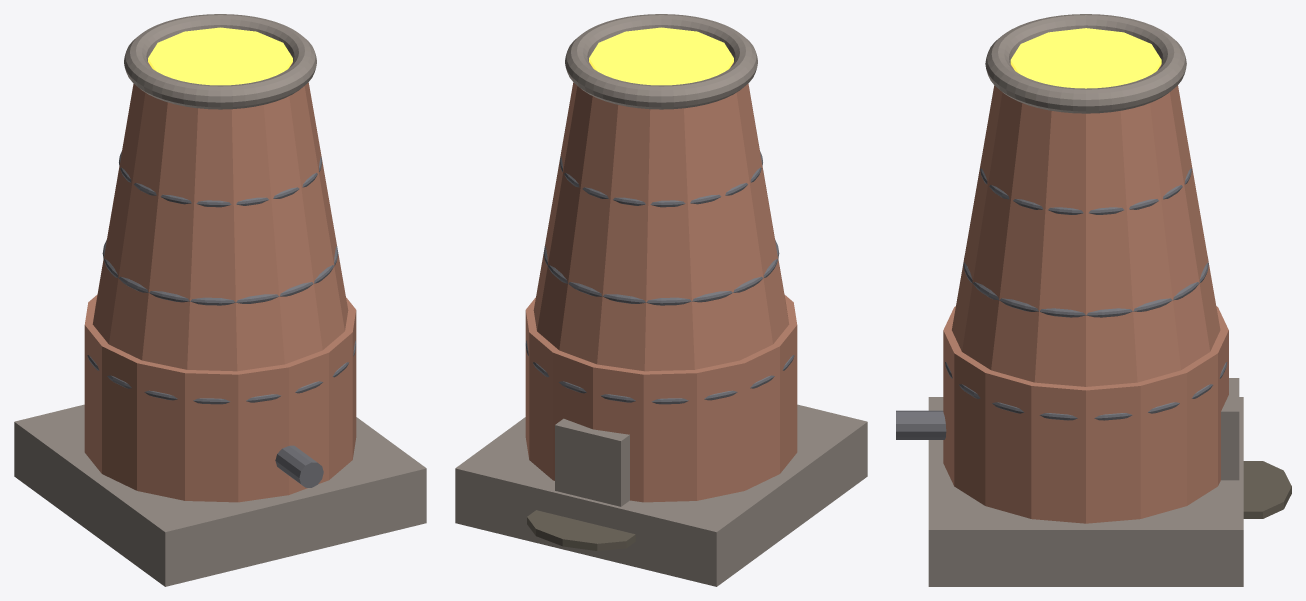
File: bloomery.glb
3 renders of one model, left to right at view 1: azimuth 30°, elevation 25°; view 2: azimuth 150°, elevation 25°; view 3: azimuth 270°, elevation 25°, orthographic. The views are drawn at different scales.
Visible parts, largest first — view 1: Cone, Cylinder, Cube, Torus, Cylinder.001, Torus.002, Cylinder.003, Torus.003, Torus.001; view 2: Cone, Cylinder, Cube, Torus, Cylinder.001, Cube.001, Cylinder.002, Torus.002, Torus.003, Torus.001; view 3: Cone, Cylinder, Cube, Torus, Cylinder.001, Cylinder.002, Torus.002, Cube.001, Cylinder.003, Torus.003, Torus.001.
Part boxes in pixels (<box>): Cone: <box>92,53,348,371</box>; Cylinder: <box>84,295,356,502</box>; Cube: <box>14,404,426,586</box>; Torus: <box>124,14,316,109</box>; Cylinder.001: <box>148,27,292,85</box>; Torus.002: <box>102,239,338,305</box>; Cylinder.003: <box>275,445,323,487</box>; Torus.003: <box>119,151,321,207</box>; Torus.001: <box>87,340,356,404</box>; Cone: <box>533,53,789,371</box>; Cylinder: <box>525,295,797,502</box>; Cube: <box>455,404,867,586</box>; Torus: <box>565,14,757,109</box>; Cylinder.001: <box>589,27,733,85</box>; Cube.001: <box>555,418,629,506</box>; Cylinder.002: <box>527,510,635,550</box>; Torus.002: <box>543,239,779,305</box>; Torus.003: <box>560,151,762,207</box>; Torus.001: <box>525,340,794,404</box>; Cone: <box>952,55,1220,386</box>; Cylinder: <box>943,306,1228,523</box>; Cube: <box>928,397,1243,586</box>; Torus: <box>985,14,1186,113</box>; Cylinder.001: <box>1010,28,1161,88</box>; Cylinder.002: <box>1243,461,1291,518</box>; Torus.002: <box>963,258,1208,317</box>; Cube.001: <box>1221,378,1239,480</box>; Cylinder.003: <box>896,410,946,439</box>; Torus.003: <box>980,168,1191,214</box>; Torus.001: <box>945,362,1227,420</box>.
Bounding box in the file's own units: 1.5 × 2.46 × 1.88.
